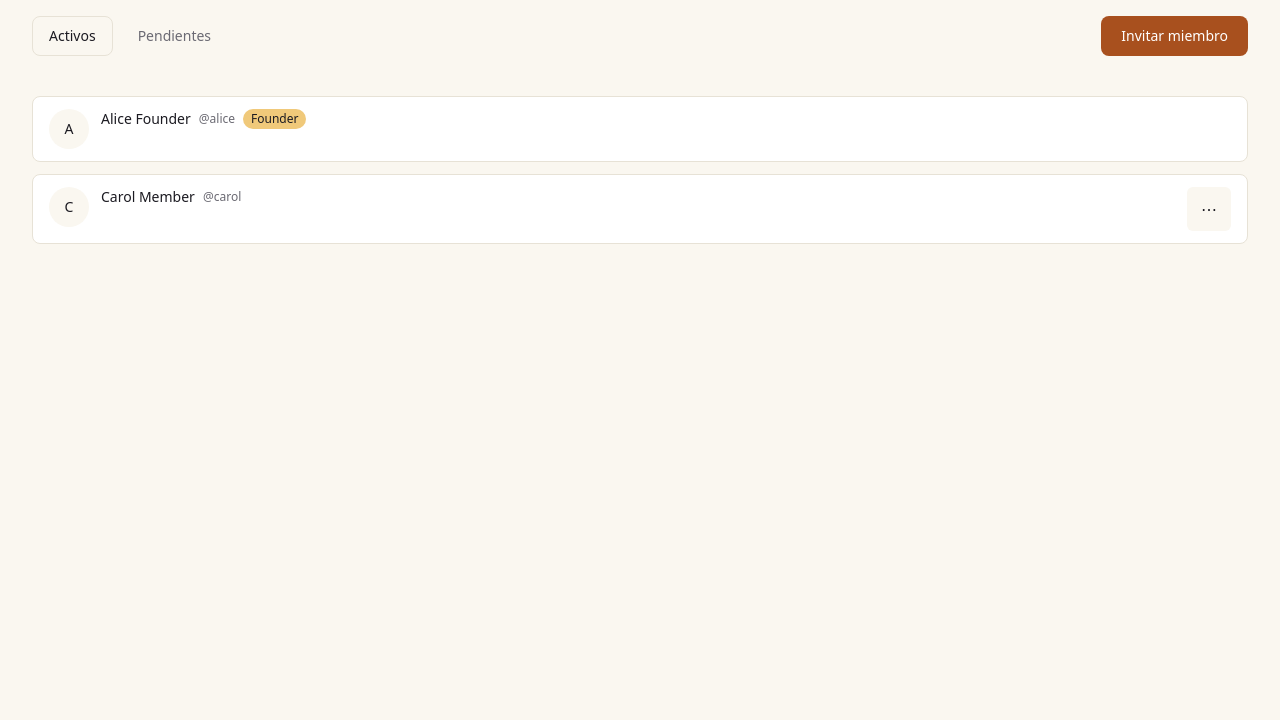
Scenario: <MembersPageShell /> › click 'Invitar miembro' → modal abre; click 'Cerrar' → modal cierra
Click the button "Invitar miembro" at {"x": 1175, "y": 36}, box [1101,16,1248,56]
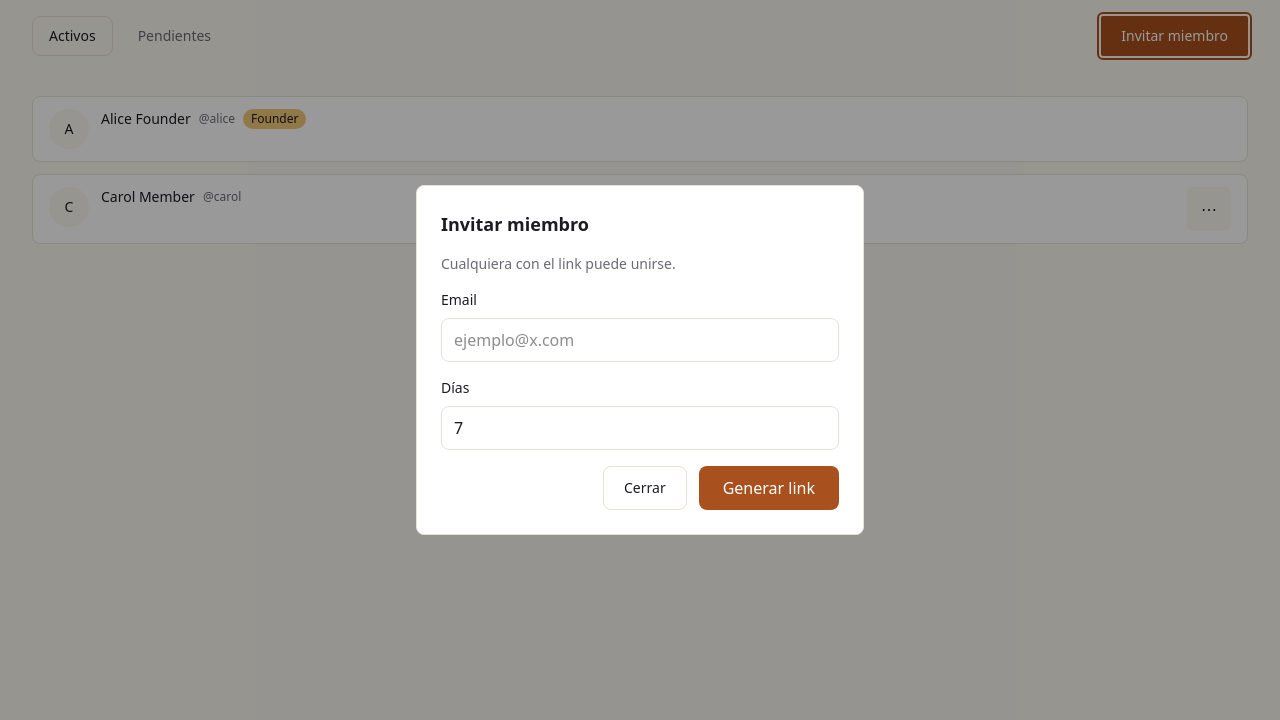
Check: the dialog is shown
Check: the field labelled "Email" is shown, box [441,318,839,362]
Click the button "Cerrar" at {"x": 645, "y": 488}, box [603,466,687,510]
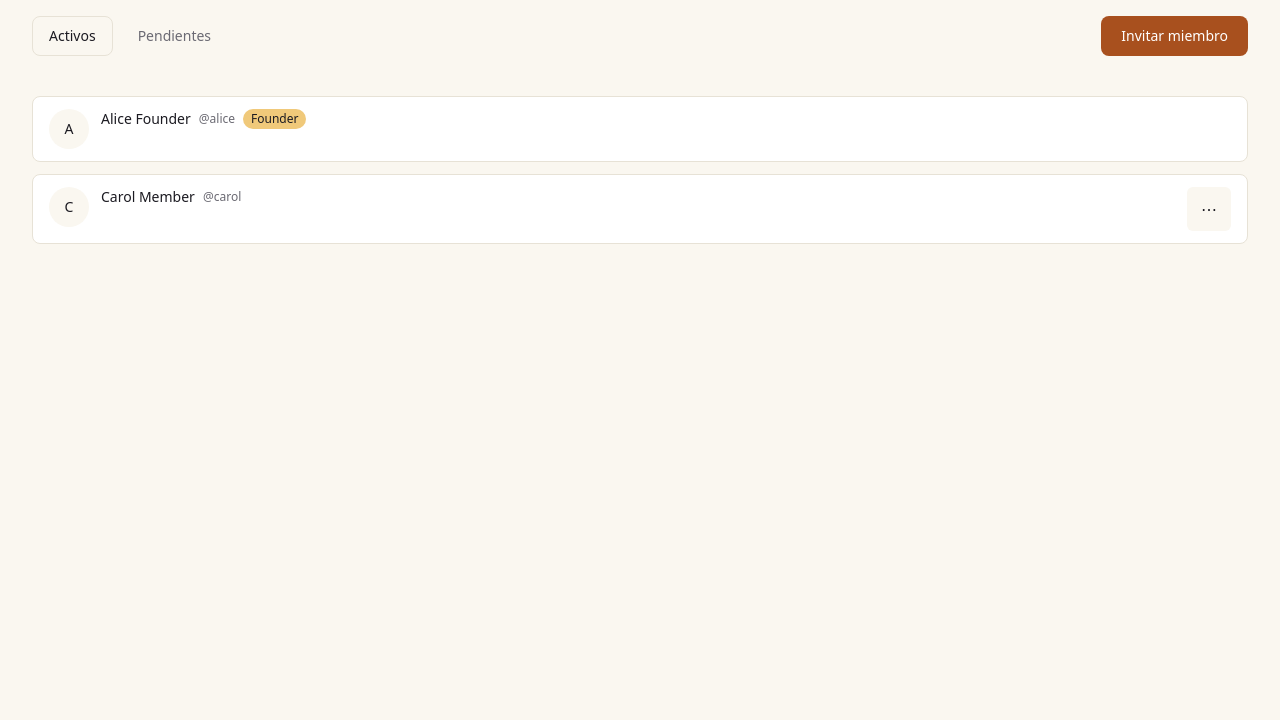
Check: the dialog is gone
